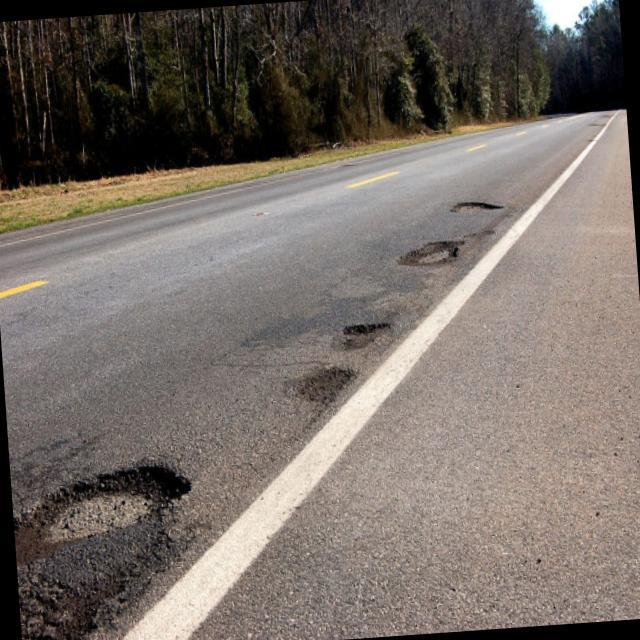Pothole: (15, 451, 198, 542), (288, 358, 359, 412), (394, 230, 462, 276), (332, 314, 408, 342), (449, 193, 498, 219)
